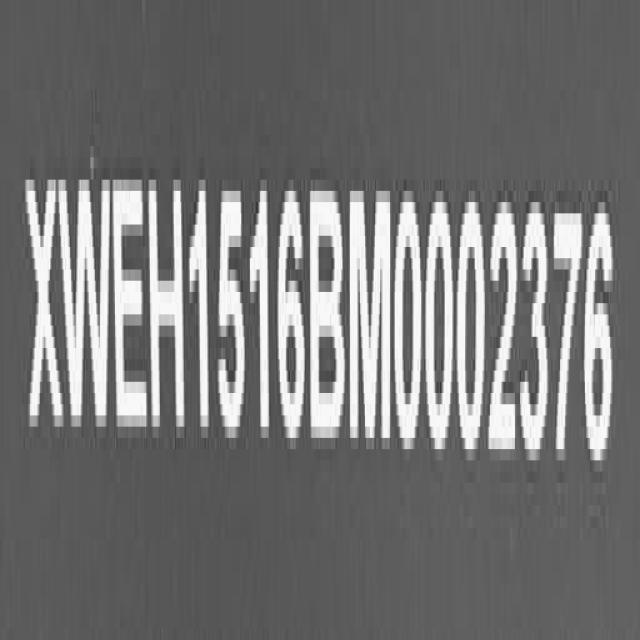0: (426, 193, 456, 459), (396, 188, 426, 454), (456, 195, 484, 460)
1: (249, 177, 275, 449), (191, 177, 212, 451)
2: (491, 201, 522, 464)
3: (523, 197, 551, 468)
5: (587, 197, 619, 469), (217, 179, 246, 446)
6: (277, 179, 307, 452)
7: (556, 196, 584, 468)
B: (310, 182, 346, 452)
E: (115, 175, 150, 447)
H: (151, 172, 185, 445)
M: (349, 178, 392, 451)
W: (62, 171, 113, 443)
X: (29, 174, 64, 446)
